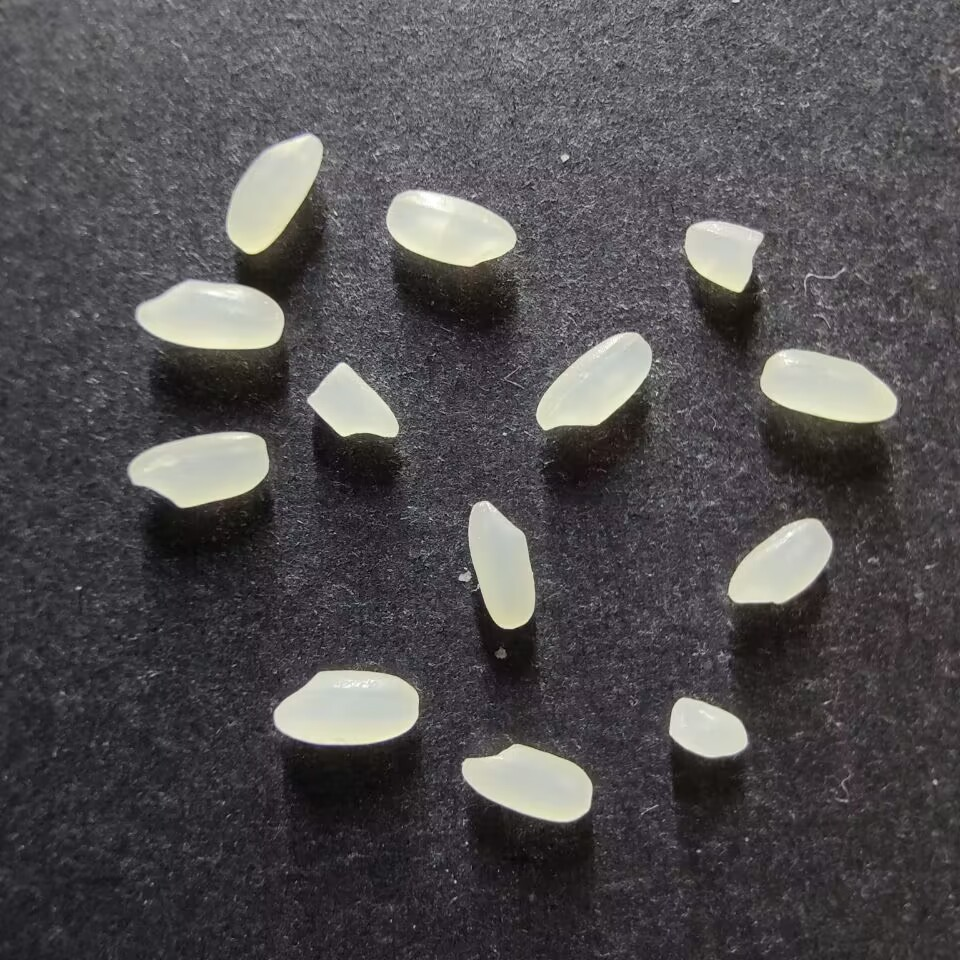broken: (305, 361, 398, 440), (683, 220, 763, 293), (667, 697, 748, 758)
rice: (224, 132, 322, 255), (534, 330, 652, 431), (272, 669, 419, 747), (126, 431, 269, 509), (134, 279, 284, 350), (461, 743, 593, 823), (384, 189, 517, 268), (758, 348, 897, 423), (727, 517, 833, 604), (467, 500, 537, 629)
